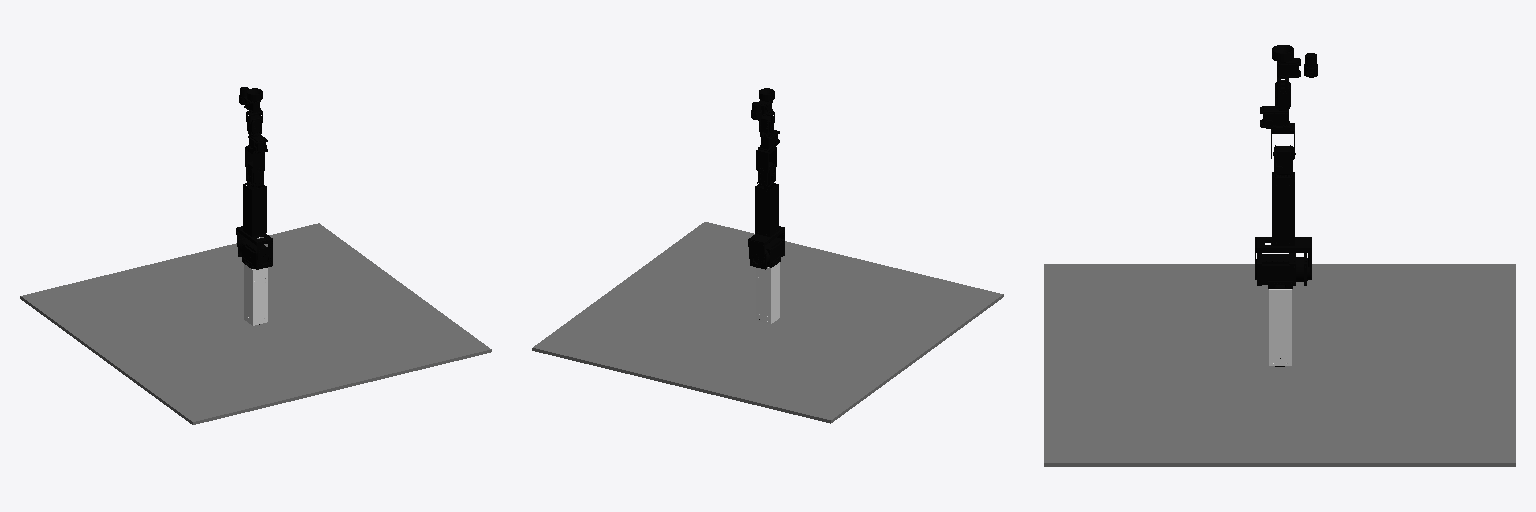
--- Render facts (derived) ---
The picture shows the robot from 3 angles, left to right: view 1: azimuth 30°, elevation 25°; view 2: azimuth 150°, elevation 25°; view 3: azimuth 270°, elevation 25°; orthographic projection.
Robot: proarm — 20 links, 19 joints (6 revolute, 13 fixed); root link base_link; default pose: all joints at 0.
Visible links, largest first — view 1: base_link, link_pilar1, link_pilar2, link_bracket_f54; view 2: base_link, link_pilar1, link_pilar2, link_bracket_f54; view 3: base_link, link_pilar1, link_pilar2, link_motor_h54, link_bracket_f54, link_motor_mx641, link_motor_mx642.
Boxes of the visible links, x1,y1,x2,y2 form: base_link: (20,223,491,424); link_pilar1: (244,264,267,325); link_pilar2: (243,183,266,236); link_bracket_f54: (236,226,272,266); base_link: (532,222,1003,423); link_pilar1: (756,262,779,323); link_pilar2: (755,183,778,236); link_bracket_f54: (748,226,784,267); base_link: (1044,264,1515,466); link_pilar1: (1269,289,1291,365); link_pilar2: (1272,172,1294,245); link_motor_h54: (1259,253,1309,285); link_bracket_f54: (1255,237,1311,279); link_motor_mx641: (1273,145,1295,176); link_motor_mx642: (1260,106,1289,128).
Size in the robot's own frame: 1 by 1 by 0.7466 metres.
Meshes: 16 distinct files referenced, 18 mesh visuals loaded (16 binary STL).

robot.urdf — proarm:
<robot  name="proarm">

<gazebo>
  <plugin name="gazebo_ros_control" filename="libgazebo_ros_control.so">
 <robotNamespace>/proarm</robotNamespace>
	 	<robotSimType>gazebo_ros_control/DefaultRobotHWSim</robotSimType>  <!--asdf--> 
  </plugin>
</gazebo>


 <material name="blue">
    <color rgba="0 0 0.8 1"/>
  </material>

  <material name="white">
    <color rgba="0.9 0.9 0.9 1"/>
  </material>
  <material name="pure_white">
    <color rgba="1 1 1 1"/>
  </material>
    <material name="clear_gray">
    <color rgba="0.5 0.5 0.5 1"/>
  </material>
  
  <material name="black">
    <color rgba="0.05 0.05 0.05 0.95"/>
  </material>
  

<!--PLANO BASE 

  <link name="world"/>
   <joint name="fixed" type="fixed">
    <parent link="world"/>
    <child link="base_link"/>
<origin  xyz="0 0.0 0.01"  rpy="0.0 0 0" />
  </joint>-->

  <link name="base_link">
  <inertial>
      <origin  xyz="0.0 0.0 0.0"  rpy="0 0 0" />
      <mass  value="25.0" />
      <inertia ixx="0.016667333" ixy="0.0" ixz="0.00"  iyy="0.016667333"  iyz="0.0" izz="0.016667333" />
    </inertial>
    <visual>
      <origin rpy="0 0 0" xyz="0 0 0.0"/>
      <geometry>
        <box size="1 1 .01"/>
        <!--making it slightly bigger in x and z direction-->
      </geometry>
      <material name="clear_gray"/>
    </visual>
    <collision>
      <origin rpy="0 0 0" xyz="0 0 0.0"/>
      <geometry>
        <box size="1 1 .01"/>
        <!--making it slightly bigger in x and z direction-->
      </geometry>
    </collision>
  </link>
  
 
  
  <!--PRIMERMotorBASE     H42-20-S300-->
   <joint name="joint1" type="revolute">
    <parent link="base_link"/>
    <child link="link_motor_h42"/>
     <origin  xyz="0 0.0 0.005"  rpy="0.0 3.141592654 0.0" />
    <axis  xyz="0 0 1" />
    <limit  lower="-3.1459" upper="3.1459" effort="10"  velocity="3.57" />
  </joint>

  <link  name="link_motor_h42">
    <inertial>
     <origin  xyz="0 0 0.0"  rpy="0 0 0" />
      <mass  value="0.4" />
      <inertia ixx="0.0001" ixy="0.0" ixz="0.000"  iyy="0.0001"  iyz="0.0" izz="0.0001" />
    </inertial>
    <visual>
      <origin  xyz="0 0 0.0"  rpy="0 0 0" />
      <geometry>     
        <mesh filename="package://arm/meshes/dynamixel_pro/h42.stl" scale="0.001 0.001 0.001"/>
      </geometry>    
       <material name="black"/>     
    </visual>
    <collision>
    <origin  xyz="0 0 0.0"  rpy="0 0 0" />
      <geometry>
        <mesh filename="package://arm/meshes/dynamixel_pro/h42.stl" scale="0.001 0.001 0.001" />
      </geometry>
    </collision>
  </link>


   <!--FIRST JOINT  1-->
   <joint name="joint_motor_h42_base" type="fixed">
    <parent link="link_motor_h42"/>
    <child link="link_pilar1"/>
     <origin  xyz="0.025 0.046 -0.185"  rpy="0 0 0" />
     
  </joint>
  
 <link  name="link_pilar1">
    <inertial>
     <origin  xyz="0 -0.02 0.0"  rpy="0 0 0" />
      <mass  value="0.1" />
      <inertia ixx="0.0001" ixy="0.0" ixz="0.000"  iyy="0.0001"  iyz="0.0" izz="0.0001" />
    </inertial>
    <visual>
      <origin  xyz="0 -0.02 0.0"  rpy="0 0 0" />
      <geometry>     
        <mesh filename="package://arm/meshes/dynamixel_pro/50x50x180.stl" scale="0.001 0.001 0.001"/>
      </geometry>   
       <material name="white"/>
    </visual>
    <collision>
    <origin  xyz="0 -0.02 0.0"  rpy="0 0 0" />
      <geometry>
        <mesh filename="package://arm/meshes/dynamixel_pro/50x50x180.stl" scale="0.001 0.001 0.001" />
      </geometry>
    </collision>
  </link>

  <!--ADAPTADOR para   H54-100-S500-->
   <joint name="joint_conector_frp54" type="fixed">
    <parent link="link_pilar1"/>
    <child link="link_conector_frp54"/>
     <origin  xyz="-0.025 -0.045 -0.006"  rpy="-1.570796327 0.0 0.0" />
 </joint>

 <link  name="link_conector_frp54">
    <inertial>
     <origin  xyz="0 0 0.0"  rpy="0 0 0" />
      <mass  value="0.05" />
      <inertia ixx="0.0001" ixy="0.0" ixz="0.000"  iyy="0.0001"  iyz="0.0" izz="0.0001" />
    </inertial>
    <visual>
      <origin  xyz="0 0 0.0"  rpy="0 0 0" />
      <geometry>     
        <mesh filename="package://arm/meshes/dynamixel_pro/frp54a.stl" scale="0.001 0.001 0.001"/>
      </geometry>      
<material name="black"/>  
    </visual>
    <collision>
    <origin  xyz="0 0 0.0"  rpy="0 0 0" />
      <geometry>
        <mesh filename="package://arm/meshes/dynamixel_pro/frp54a.stl" scale="0.001 0.001 0.001" />
      </geometry>
    </collision>
  </link>


  <!--SEGUNDOMotor JOINT2    H54-100-S500-->
   <joint name="motor_h54_base" type="fixed">
    <parent link="link_conector_frp54"/>
    <child link="link_motor_h54"/>
    <origin  xyz="0.0 0.03 0.027"  rpy=" 1.570796327 0.0 -1.570796327" />
  </joint>

 <link  name="link_motor_h54">
    <inertial>
     <origin  xyz="0 0 0.0"  rpy="0 0 0" />
      <mass  value="0.8" />
      <inertia ixx="0.0001" ixy="0.0" ixz="0.000"  iyy="0.0001"  iyz="0.0" izz="0.0001" />
    </inertial>
    <visual>
      <origin  xyz="0 0 0.0"  rpy="0 0 0" />
      <geometry>     
        <mesh filename="package://arm/meshes/dynamixel_pro/h54.stl" scale="0.001 0.001 0.001"/>
      </geometry>    
       <material name="black"/>     
    </visual>
    <collision>
    <origin  xyz="0 0 0.0"  rpy="0 0 0" />
      <geometry>
        <mesh filename="package://arm/meshes/dynamixel_pro/h54.stl" scale="0.001 0.001 0.001" />
      </geometry>
    </collision>
  </link>

  <!--Bracket FRP54h JOINT 2 -->
   <joint name="joint2" type="revolute">
    <parent link="link_motor_h54"/>
    <child link="link_bracket_f54"/>
     <origin  xyz="0.0 -0.021 0.0"  rpy="-1.570796327 1.570796327 0" />
     <axis  xyz="0 0 1" />
     <limit  lower="-2.3" upper="2.3" effort="10"  velocity="3.57" />
  </joint>

 <link  name="link_bracket_f54">
    <inertial>
     <origin  xyz="0 0 0.0"  rpy="0 0 0" />
      <mass  value="0.05" />
      <inertia ixx="0.0001" ixy="0.0" ixz="0.000"  iyy="0.0001"  iyz="0.0" izz="0.0001" />
    </inertial>
    <visual>
      <origin  xyz="0 0 0.0"  rpy="0 0 0" />
      <geometry>     
        <mesh filename="package://arm/meshes/dynamixel_pro/frp54h.stl" scale="0.001 0.001 0.001"/>
      </geometry>    
       <material name="black"/>     
    </visual>
    <collision>
    <origin  xyz="0 0 0.0"  rpy="0 0 0" />
      <geometry>
        <mesh filename="package://arm/meshes/dynamixel_pro/frp54h.stl" scale="0.001 0.001 0.001" />
      </geometry>
    </collision>
  </link>


  <!--SEGUNDO PILAR -->
   <joint name="joint_pilar2" type="fixed">
    <parent link="link_bracket_f54"/>
    <child link="link_pilar2"/>
     <origin  xyz="0.025 0.216 0.025"  rpy="1.570796327 0.0 0" />
  </joint>

 <link  name="link_pilar2">
    <inertial>
     <origin  xyz="0 0 0.0"  rpy="0 0 0" />
      <mass  value="0.08" />
      <inertia ixx="0.0001" ixy="0.0" ixz="0.000"  iyy="0.0001"  iyz="0.0" izz="0.0001" />
    </inertial>
    <visual>
      <origin  xyz="0 0 0.0"  rpy="0 0 0" />
      <geometry>
        <mesh filename="package://arm/meshes/dynamixel_pro/50x50x150.stl" scale="0.001 0.001 0.001"/>
      </geometry>
       <material name="black"/>
    </visual>
    <collision>
    <origin  xyz="0 0 0.0"  rpy="0 0 0" />
      <geometry>
        <mesh filename="package://arm/meshes/dynamixel_pro/50x50x150.stl" scale="0.001 0.001 0.001" />
      </geometry>
    </collision>
  </link>


  <!--Junta CONEXION PRIMER MOTOR MX64 -->
   <joint name="joint_conector_mx641" type="fixed">
    <parent link="link_pilar2"/>
    <child link="link_conector_mx641"/>
     <origin  xyz="-0.025 -0.025 -0.003"  rpy="-1.570796327 0.0 0" />
  </joint>

 <link  name="link_conector_mx641">
    <inertial>
     <origin  xyz="0 0 0.0"  rpy="0 0 0" />
      <mass  value="0.01" />
      <inertia ixx="0.0001" ixy="0.0" ixz="0.000"  iyy="0.0001"  iyz="0.0" izz="0.0001" />
    </inertial>
    <visual>
      <origin  xyz="0 0 0.0"  rpy="0 0 0" />
      <geometry>
        <mesh filename="package://arm/meshes/dynamixel_pro/fr05s.stl" scale="0.001 0.001 0.001"/>
      </geometry>
       <material name="black"/>
    </visual>
    <collision>
    <origin  xyz="0 0 0.0"  rpy="0 0 0" />
      <geometry>
        <mesh filename="package://arm/meshes/dynamixel_pro/fr05s.stl" scale="0.001 0.001 0.001" />
      </geometry>
    </collision>
  </link>

  <!--CONEXION PRIMER MOTOR MX64 -->
   <joint name="joint_motor_mx641" type="fixed">
    <parent link="link_conector_mx641"/>
    <child link="link_motor_mx641"/>
     <origin  xyz="0.0 0.0513 0.0"  rpy="0.0 0.0 0.0" />
  </joint>

 <link  name="link_motor_mx641">
    <inertial>
     <origin  xyz="0 0 0.0"  rpy="0 0 0" />
      <mass  value="0.01" />
      <inertia ixx="0.0001" ixy="0.0" ixz="0.000"  iyy="0.0001"  iyz="0.0" izz="0.0001" />
    </inertial>
    <visual>
      <origin  xyz="0 0 0.0"  rpy="0 0 0" />
      <geometry>
        <mesh filename="package://arm/meshes/dynamixel_pro/mx64.stl" scale="0.001 0.001 0.001"/>
      </geometry>
       <material name="black"/>
    </visual>
    <collision>
    <origin  xyz="0 0 0.0"  rpy="0 0 0" />
      <geometry>
        <mesh filename="package://arm/meshes/dynamixel_pro/mx64.stl" scale="0.001 0.001 0.001" />
      </geometry>
    </collision>
  </link>


  <!--JOINT 3 -->
   <joint name="joint3" type="revolute">
    <parent link="link_motor_mx641"/>
    <child link="link_bracket5l"/>
     <origin  xyz="0.0 0.0 0.025"  rpy="0.0 1.570796327 1.570796327" />
     <axis  xyz="1 0 0" />
    <limit  lower="-2.35619449" upper="2.35619449" effort="10"  velocity="3.57" />
  </joint>

 <link  name="link_bracket5l">
    <inertial>
     <origin  xyz="-0.0 -0.025 0.07"  rpy="0 0 0" />
      <mass  value="0.04" />
      <inertia ixx="0.0001" ixy="0.0" ixz="0.000"  iyy="0.0001"  iyz="0.0" izz="0.0001" />
    </inertial>
    <visual>
      <origin  xyz="-0.0 -0.025 0.07"  rpy="0 0 0" />
      <geometry>
        <mesh filename="package://arm/meshes/dynamixel_pro/fr05l.stl" scale="0.001 0.001 0.001"/>
      </geometry>
       <material name="black"/>
    </visual>
    <collision>
    <origin  xyz="-0.0 -0.025 0.07"  rpy="0 0 0" />
      <geometry>
        <mesh filename="package://arm/meshes/dynamixel_pro/fr05l.stl" scale="0.001 0.001 0.001" />
      </geometry>
    </collision>
  </link>


  <!--CONEXION SEGUNDO MOTOR MX64 -->
   <joint name="joint_motor_mx642" type="fixed">
    <parent link="link_conector_fr05b"/>
    <child link="link_motor_mx642"/>
     <origin  xyz="0.0 0.0 0.0"  rpy="0 0.0  0.0" />
  </joint>

 <link  name="link_motor_mx642">
    <inertial>
     <origin  xyz="0 0 0.0"  rpy="0 0 0"/>
      <mass  value="0.07" />
      <inertia ixx="0.0001" ixy="0.0" ixz="0.000"  iyy="0.0001"  iyz="0.0" izz="0.0001" />
    </inertial>
    <visual>
      <origin  xyz="0 0 0.0"  rpy="0 0 0" />
      <geometry>
        <mesh filename="package://arm/meshes/dynamixel_pro/mx64.stl" scale="0.001 0.001 0.001"/>
      </geometry>
       <material name="black"/>
    </visual>
    <collision>
    <origin  xyz="0 0 0.0"  rpy="0 0 0" />
      <geometry>
        <mesh filename="package://arm/meshes/dynamixel_pro/mx64.stl" scale="0.001 0.001 0.001" />
      </geometry>
    </collision>
  </link>


 <!--JOINT 4 -->
   <joint name="joint4" type="revolute">
    <parent link="link_motor_mx642"/>
    <child link="link_conector_fr07s"/>
     <origin  xyz="0.00 0.0 0.0235"  rpy="1.570796327 0.0 1.570796327 " />
     <axis  xyz="0 1 0" />
    <limit  lower="-1610.4" upper="1610.4" effort="10"  velocity="3.57" />
  </joint>

 <link  name="link_conector_fr07s">
    <inertial>
     <origin  xyz="0.0 0.0 0.0"  rpy="0 0 0" />
      <mass  value="0.01" />
      <inertia ixx="0.0001" ixy="0.0" ixz="0.000"  iyy="0.0001"  iyz="0.0" izz="0.0001" />
    </inertial>
    <visual>
      <origin  xyz="0.0 0.0 0.0"  rpy="0 0 0" />
      <geometry>
        <mesh filename="package://arm/meshes/dynamixel_pro/fr07s.stl" scale="0.001 0.001 0.001"/>
      </geometry>
       <material name="black"/>
    </visual>
    <collision>
    <origin  xyz="0.0 0.0 0.0"  rpy="0 0 0" />
      <geometry>
        <mesh filename="package://arm/meshes/dynamixel_pro/fr07s.stl" scale="0.001 0.001 0.001" />
      </geometry>
    </collision>
  </link>

  <!--CONEXION PRIMER MOTOR MX28 -->
   <joint name="joint_motor_mx281" type="fixed">
    <parent link="link_conector_fr07s"/>
    <child link="link_motor_mx281"/>
     <origin  xyz="0.0 0.04175 0.0"  rpy="0.0 0.0 0.0" />
  </joint>

 <link  name="link_motor_mx281">
    <inertial>
     <origin  xyz="0 0 0.0"  rpy="0 0 0"/>
      <mass  value="0.06" />
      <inertia ixx="0.0001" ixy="0.0" ixz="0.000"  iyy="0.0001"  iyz="0.0" izz="0.0001" />
    </inertial>
    <visual>
      <origin  xyz="0 0 0.0"  rpy="0 0 0" />
      <geometry>
        <mesh filename="package://arm/meshes/dynamixel_pro/mx28.stl" scale="0.001 0.001 0.001"/>
      </geometry>
       <material name="black"/>
    </visual>
    <collision>
    <origin  xyz="0 0 0.0"  rpy="0 0 0" />
      <geometry>
        <mesh filename="package://arm/meshes/dynamixel_pro/mx28.stl" scale="0.001 0.001 0.001" />
      </geometry>
    </collision>
  </link>

 <!--JOINT  5-->
   <joint name="joint5" type="revolute">
    <parent link="link_motor_mx281"/>
    <child link="link_bracket_f7l"/>
     <origin  xyz="0.00 0.0 0.0"  rpy="0.0 1.570796327 0.0" />
     <axis  xyz="1 0 0" />
    <limit  lower="-2.35619449" upper="2.35619449" effort="10"  velocity="3.57" />
  </joint>

 <link  name="link_bracket_f7l">
    <inertial>
     <origin  xyz="0.0 0.0 0.0"  rpy="0 0 0" />
      <mass  value="0.02" />
      <inertia ixx="0.0001" ixy="0.0" ixz="0.000"  iyy="0.0001"  iyz="0.0" izz="0.0001" />
    </inertial>
    <visual>
      <origin  xyz="0.0 0.0 0.0"  rpy="0 0 0" />
      <geometry>
        <mesh filename="package://arm/meshes/dynamixel_pro/fr07h.stl" scale="0.001 0.001 0.001"/>
      </geometry>
       <material name="black"/>
    </visual>
    <collision>
    <origin  xyz="-0.0 -0.0 0.0"  rpy="0 0 0" />
      <geometry>
        <mesh filename="package://arm/meshes/dynamixel_pro/fr07h.stl" scale="0.001 0.001 0.001" />
      </geometry>
    </collision>
  </link>

<!--JOINT  6-->
   <joint name="joint6" type="revolute">
    <parent link="link_bracket_f7l"/>
    <child link="link_motor_mx282"/>
     <origin  xyz="0.0 0.05 0.0"  rpy="1.570796327 3.1415926 0" />
     <axis  xyz="0 0 1" />
    <limit  lower="-1610.4" upper="1610.4" effort="20"  velocity="8.57" />
  </joint>

 <link  name="link_motor_mx282">
    <inertial>
     <origin  xyz="0.00 0.0 0.0"  rpy="0 0 0" />
      <mass  value="0.06" />
      <inertia ixx="0.0001" ixy="0.0" ixz="0.000"  iyy="0.0001"  iyz="0.0" izz="0.0001" />
    </inertial>
    <visual>
      <origin  xyz="0.00 0.0 0.0"  rpy="0 0 0" />
      <geometry>
        <mesh filename="package://arm/meshes/dynamixel_pro/mx28.stl" scale="0.001 0.001 0.001"/>
      </geometry>
       <material name="black"/>
    </visual>
    <collision>
    <origin  xyz="0.00 0.0 0.0"  rpy="0 0 0" />
      <geometry>
        <mesh filename="package://arm/meshes/dynamixel_pro/mx28.stl" scale="0.001 0.001 0.001" />
      </geometry>
    </collision>
  </link>




 <!--OTHER ACCESORIES WITH FIXED JOINTS-->



   <joint name="joint_bearing_i54" type="fixed">
    <parent link="link_motor_h54"/>
    <child link="link_bearing_i54"/>
     <origin  xyz="0.0 -0.075 0.0"  rpy="1.570796327 0 0.0" />
  </joint>

 <link  name="link_bearing_i54">
    <inertial>
     <origin  xyz="0 0 0.0"  rpy="0 0 0" />
      <mass  value="0.01" />
      <inertia ixx="0.0001" ixy="0.0" ixz="0.000"  iyy="0.0001"  iyz="0.0" izz="0.0001" />
    </inertial>
    <visual>
      <origin  xyz="0 0 0.0"  rpy="0 0 0" />
      <geometry>     
        <mesh filename="package://arm/meshes/dynamixel_pro/frp54i.stl" scale="0.001 0.001 0.001"/>
      </geometry>    
       <material name="black"/>
    </visual>
    <collision>
    <origin  xyz="0 0 0.0"  rpy="0 0 0" />
      <geometry>
        <mesh filename="package://arm/meshes/dynamixel_pro/frp54i.stl" scale="0.001 0.001 0.001" />
      </geometry>
    </collision>
  </link>

 <joint name="joint_conector_f05b" type="fixed">
    <parent link="link_bracket5l"/>
    <child link="link_conector_fr05b"/>
     <origin  xyz="0.0255 -0.0 0.086"  rpy="0.0 0 1.570796327" />
  </joint>

 <link  name="link_conector_fr05b">
    <inertial>
     <origin  xyz="0 0 0.0"  rpy="0 0 0" />
      <mass  value="0.01" />
      <inertia ixx="0.0001" ixy="0.0" ixz="0.000"  iyy="0.0001"  iyz="0.0" izz="0.0001" />
    </inertial>
    <visual>
      <origin  xyz="0 0 0.0"  rpy="0 0 0" />
      <geometry>     
        <mesh filename="package://arm/meshes/dynamixel_pro/fr05b.stl" scale="0.001 0.001 0.001"/>
      </geometry>    
       <material name="black"/>
    </visual>
    <collision>
    <origin  xyz="0 0 0.0"  rpy="0 0 0" />
      <geometry>
        <mesh filename="package://arm/meshes/dynamixel_pro/fr05b.stl" scale="0.001 0.001 0.001" />
      </geometry>
    </collision>
  </link>

 <joint name="joint_eeff" type="fixed">
    <parent link="link_motor_mx282"/>
    <child link="link_eeff"/>
     <origin  xyz="0.0 0.0 -0.014"  rpy="0.0 -3.141592654 0.0" />
  </joint>

 <link  name="link_eeff">
    <inertial>
     <origin  xyz="0 0 0.0"  rpy="0 0 0" />
      <mass  value="0.01" />
      <inertia ixx="0.0001" ixy="0.0" ixz="0.000"  iyy="0.0001"  iyz="0.0" izz="0.0001" />
    </inertial>
    <visual>
      <origin  xyz="0 0 0.0"  rpy="0 0 0" />
      <geometry>     
        <mesh filename="package://arm/meshes/dynamixel_pro/eeff.stl" scale="0.001 0.001 0.001"/>
      </geometry>    
       <material name="black"/>
    </visual>
    <collision>
    <origin  xyz="0 0 0.0"  rpy="0 0 0" />
      <geometry>
        <mesh filename="package://arm/meshes/dynamixel_pro/eeff.stl" scale="0.001 0.001 0.001" />
      </geometry>
    </collision>
  </link>

 <joint name="joint_camera" type="fixed">
    <parent link="link_eeff"/>
    <child link="link_camera"/>
     <origin  xyz="0.0 -0.06 -0.018"  rpy="0.0 0.0 0.0" />
  </joint>

 <link  name="link_camera">
    <inertial>
     <origin  xyz="0 0 0.0"  rpy="0 0 0" />
      <mass  value="0.01" />
      <inertia ixx="0.0001" ixy="0.0" ixz="0.000"  iyy="0.0001"  iyz="0.0" izz="0.0001" />
    </inertial>
    <visual>
      <origin  xyz="0 0 0.0"  rpy="0 0 0" />
      <geometry>     
        <mesh filename="package://arm/meshes/dynamixel_pro/basler_pulse_camera.stl" scale="0.008 0.008 0.008"/>
      </geometry>    
       <material name="black"/>
    </visual>
    <collision>
    <origin  xyz="0 0 0.0"  rpy="0 0 0" />
      <geometry>
        <mesh filename="package://arm/meshes/dynamixel_pro/basler_pulse_camera.stl" scale="0.008 0.008 0.008" />
      </geometry>
    </collision>
  </link>
  <joint name="cam_optical_joint" type="fixed">
      <origin xyz="-0.01 0.05 0.05" rpy="0 -1.570796327 1.570796327" />
      <parent link="link_camera" />
      <child link="cam_optical_frame"/>
    </joint>
  
    <link name="cam_optical_frame"/>    

  
   <transmission name="tran1">
    <type>transmission_interface/SimpleTransmission</type>
    <joint name="joint1">
     <hardwareInterface>EffortJointInterface</hardwareInterface>
     </joint>
    <actuator name="motor1">
      <hardwareInterface>EffortJointInterface</hardwareInterface>
      <mechanicalReduction>1</mechanicalReduction>
    </actuator>
  </transmission>

   <transmission name="tran2">
    <type>transmission_interface/SimpleTransmission</type>
    <joint name="joint2">
     <hardwareInterface>EffortJointInterface</hardwareInterface>
     </joint>
    <actuator name="motor2">
      <hardwareInterface>EffortJointInterface</hardwareInterface>
      <mechanicalReduction>1</mechanicalReduction>
    </actuator>
  </transmission>

   <transmission name="tran3">
    <type>transmission_interface/SimpleTransmission</type>
    <joint name="joint3">
     <hardwareInterface>EffortJointInterface</hardwareInterface>
     </joint>
    <actuator name="motor3">
      <hardwareInterface>EffortJointInterface</hardwareInterface>
      <mechanicalReduction>1</mechanicalReduction>
    </actuator>
  </transmission>

   <transmission name="tran4">
    <type>transmission_interface/SimpleTransmission</type>
    <joint name="joint4">
     <hardwareInterface>EffortJointInterface</hardwareInterface>
     </joint>
    <actuator name="motor4">
      <hardwareInterface>EffortJointInterface</hardwareInterface>
      <mechanicalReduction>1</mechanicalReduction>
    </actuator>
  </transmission>
   <transmission name="tran5">
    <type>transmission_interface/SimpleTransmission</type>
    <joint name="joint5">
     <hardwareInterface>EffortJointInterface</hardwareInterface>
     </joint>
    <actuator name="motor5">
      <hardwareInterface>EffortJointInterface</hardwareInterface>
      <mechanicalReduction>1</mechanicalReduction>
    </actuator>
  </transmission>
  
  <transmission name="tran6">
    <type>transmission_interface/SimpleTransmission</type>
    <joint name="joint6">
     <hardwareInterface>EffortJointInterface</hardwareInterface>
     </joint>
    <actuator name="motor6">
      <hardwareInterface>EffortJointInterface</hardwareInterface>
      <mechanicalReduction>1</mechanicalReduction>
    </actuator>
  </transmission>

  <gazebo reference="base_link">
      <gravity>true</gravity>
       <self_collide>true</self_collide>
      <material value="Gazebo/White" />
    </gazebo>

  <gazebo reference="link_motor_h42">
      <gravity>true</gravity>
       <self_collide>true</self_collide>
      <material value="Gazebo/Black" />
    </gazebo>

    <gazebo reference="link_pilar1">
      <gravity>true</gravity>
       <self_collide>true</self_collide>
      <material value="Gazebo/White" />
    </gazebo>

  <gazebo reference="link_motor_h54">
      <gravity>true</gravity>
       <self_collide>true</self_collide>
      <material value="Gazebo/Black" />
    </gazebo>
   
 <gazebo reference="link_conector_frp54">
      <gravity>true</gravity>
       <self_collide>true</self_collide>
      <material value="Gazebo/Black" />
    </gazebo>

 <gazebo reference="link_bracket_f54">
      <gravity>true</gravity>
       <self_collide>true</self_collide>
      <material value="Gazebo/Black" />
    </gazebo>

 <gazebo reference="link_bearing_i54">
      <gravity>true</gravity>
       <self_collide>true</self_collide>
      <material value="Gazebo/Black" />
    </gazebo>

 <gazebo reference="link_pilar2">
      <gravity>true</gravity>
       <self_collide>true</self_collide>
      <material value="Gazebo/White" />
    </gazebo>
 <gazebo reference="link_motor_mx641">
      <gravity>true</gravity>
       <self_collide>true</self_collide>
      <material value="Gazebo/Black" />
    </gazebo>
 <gazebo reference="link_motor_mx642">
      <gravity>true</gravity>
       <self_collide>true</self_collide>
      <material value="Gazebo/Black" />
    </gazebo>
<gazebo reference="link_conector_fr07s">
      <gravity>true</gravity>
       <self_collide>true</self_collide>
      <material value="Gazebo/White" />
    </gazebo>
<gazebo reference="link_motor_mx281">
      <gravity>true</gravity>
       <self_collide>true</self_collide>
      <material value="Gazebo/Black" />
    </gazebo>
<gazebo reference="link_bracket_f7l">
      <gravity>true</gravity>
       <self_collide>true</self_collide>
      <material value="Gazebo/White" />
    </gazebo>
<gazebo reference="link_motor_mx282">
      <gravity>true</gravity>
       <self_collide>true</self_collide>
      <material value="Gazebo/Black" />
    </gazebo>
<gazebo reference="link_eeff">
      <gravity>true</gravity>
       <self_collide>true</self_collide>
      <material value="Gazebo/Red" />
    </gazebo>
<gazebo reference="link_camera">
      <gravity>true</gravity>
       <self_collide>true</self_collide>
      <material value="Gazebo/Red" />
    </gazebo>
<gazebo reference="cam_optical_frame">
      <gravity>true</gravity>
       <self_collide>true</self_collide>
      <material value="Gazebo/Red" />
    </gazebo>


 <gazebo reference="cam_optical_frame">
	       <turnGravityOff>true</turnGravityOff>
		<sensor type="camera" name="cam_camera_sensor">
		  <update_rate>30.0</update_rate>
		  <camera>
		     <horizontal_fov>1.3962634</horizontal_fov> <!--80-->
		    <image>
		      <format>R8G8B8</format>
		      <width>640</width>
		      <height>480</height>
		    </image>
		    <clip>
		      <near>0.01</near>
		      <far>90</far>
		    </clip>
		  </camera>

		  <plugin name="cam_camera_controller" filename="libgazebo_ros_camera.so">
		    <cameraName>cam</cameraName>
		  <imageTopicName>image_raw</imageTopicName>
		    <cameraInfoTopicName>camera_info</cameraInfoTopicName>
		    <frameName>cam_optical_frame</frameName>
		  <hackBaseline>0.07</hackBaseline>
		  <distortionK1>0.0</distortionK1>
		  <distortionK2>0.0</distortionK2>
		  <distortionK3>0.0</distortionK3>
		  <distortionT1>0.0</distortionT1>
		  <distortionT2>0.0</distortionT2>
		  </plugin>
		</sensor>
	    </gazebo>



</robot>
